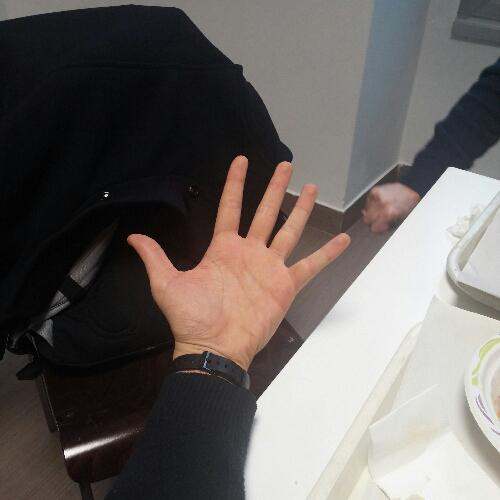paper: (117, 148, 358, 378)
